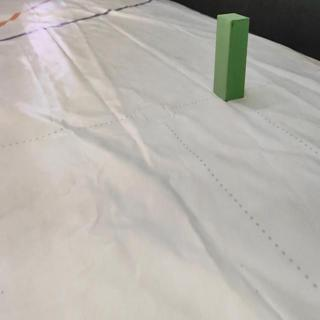greenbox: (215, 13, 249, 102)
